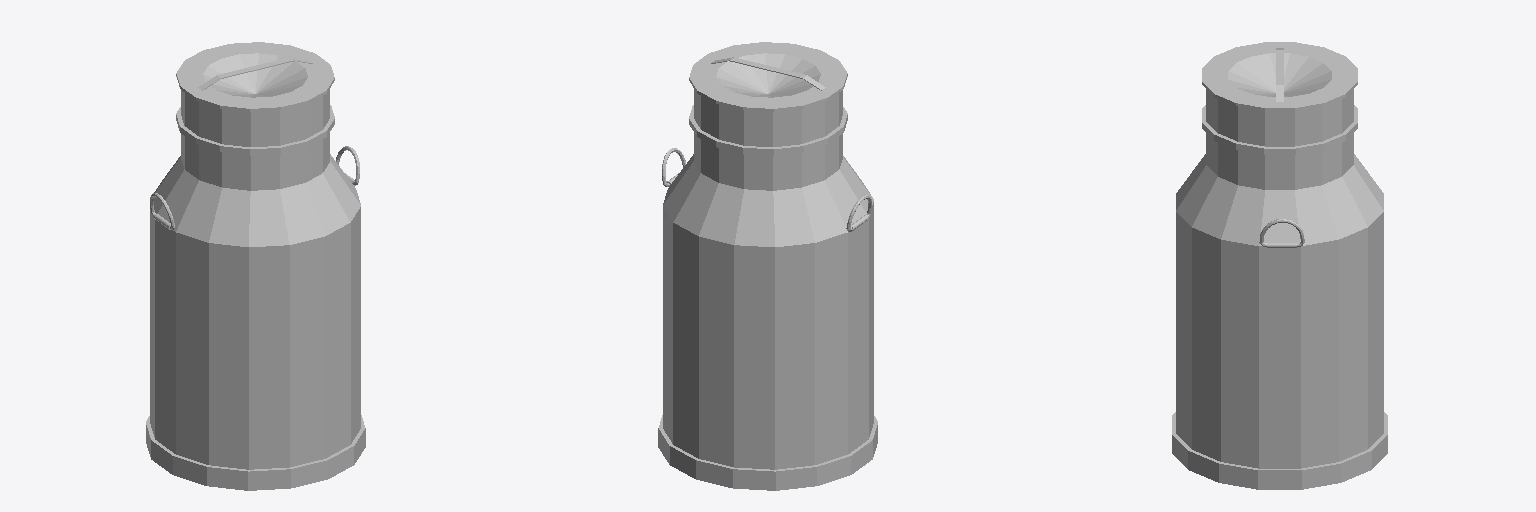
File: Milk Churn.obj
The picture shows the model from 3 angles: view 1: azimuth 30°, elevation 25°; view 2: azimuth 150°, elevation 25°; view 3: azimuth 270°, elevation 25°; orthographic projection.
Parts seen in each view (by area): view 1: Milk_Churn; view 2: Milk_Churn; view 3: Milk_Churn.
Part boxes in pixels (bbox=[...]): Milk_Churn: bbox=[146, 42, 365, 490]; Milk_Churn: bbox=[658, 42, 877, 490]; Milk_Churn: bbox=[1172, 42, 1387, 489].
Size of the model in its own units: 0.5134 by 0.9439 by 0.4911.